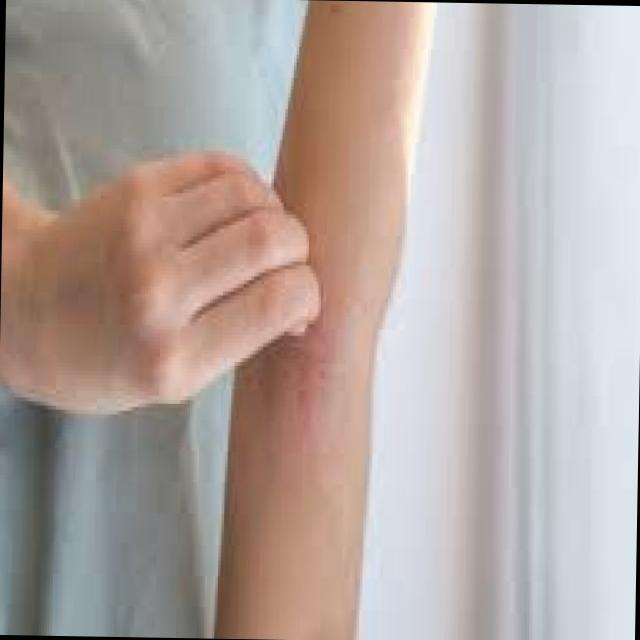Eczema: (260, 298, 338, 410)
